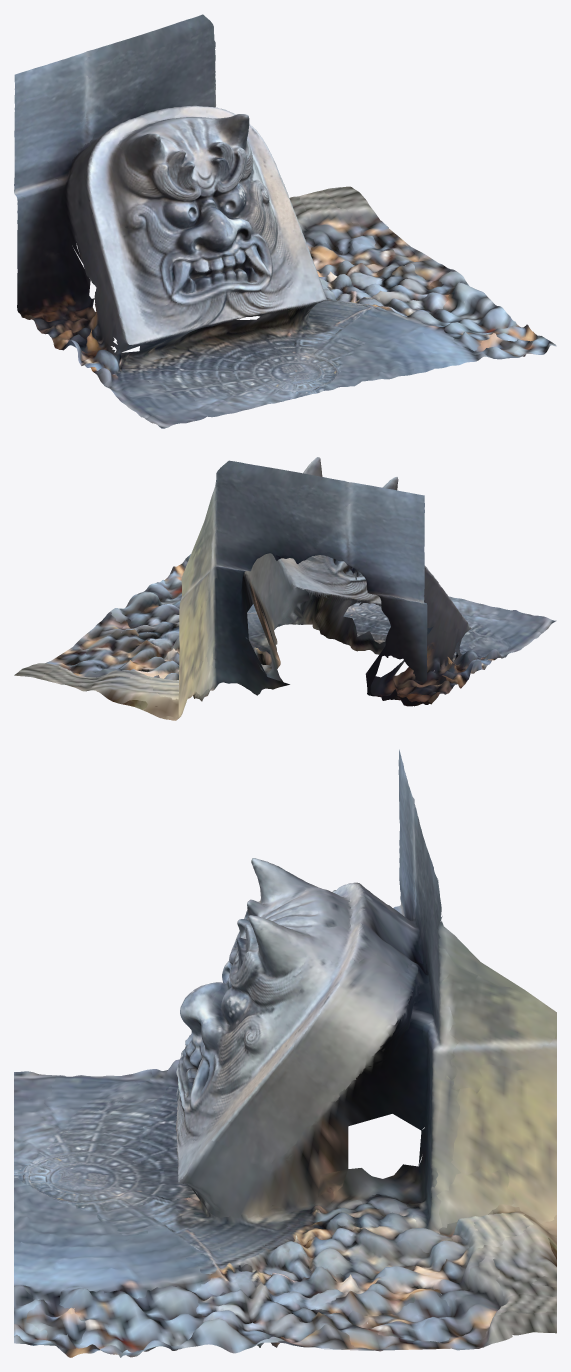
The model's file is source-objaverse.glb.
The picture shows the model from 3 angles, top to bottom: view 1: azimuth 30°, elevation 25°; view 2: azimuth 150°, elevation 25°; view 3: azimuth 270°, elevation 25°; orthographic projection. The views are drawn at different scales.
Parts seen in each view (by area): view 1: Object_3, Object_2, Object_4; view 2: Object_2, Object_3, Object_4; view 3: Object_2, Object_3, Object_4.
Boxes of the visible parts, x1,y1,x2,y2 form: Object_3: (14, 22, 449, 418); Object_2: (14, 14, 539, 410); Object_4: (17, 21, 556, 428); Object_2: (14, 457, 510, 709); Object_3: (40, 468, 541, 718); Object_4: (110, 464, 556, 720); Object_2: (14, 749, 556, 1357); Object_3: (14, 790, 556, 1347); Object_4: (14, 817, 556, 1357).
Size of the model in its own units: 0.8141 by 0.5426 by 0.7376.
Materials: 1 (1 with a texture image).
